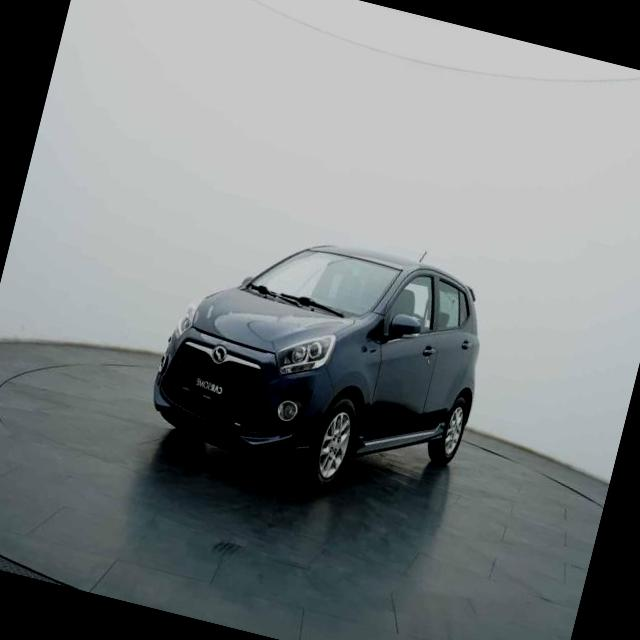PeroduaAxia: (137, 196, 507, 523)
